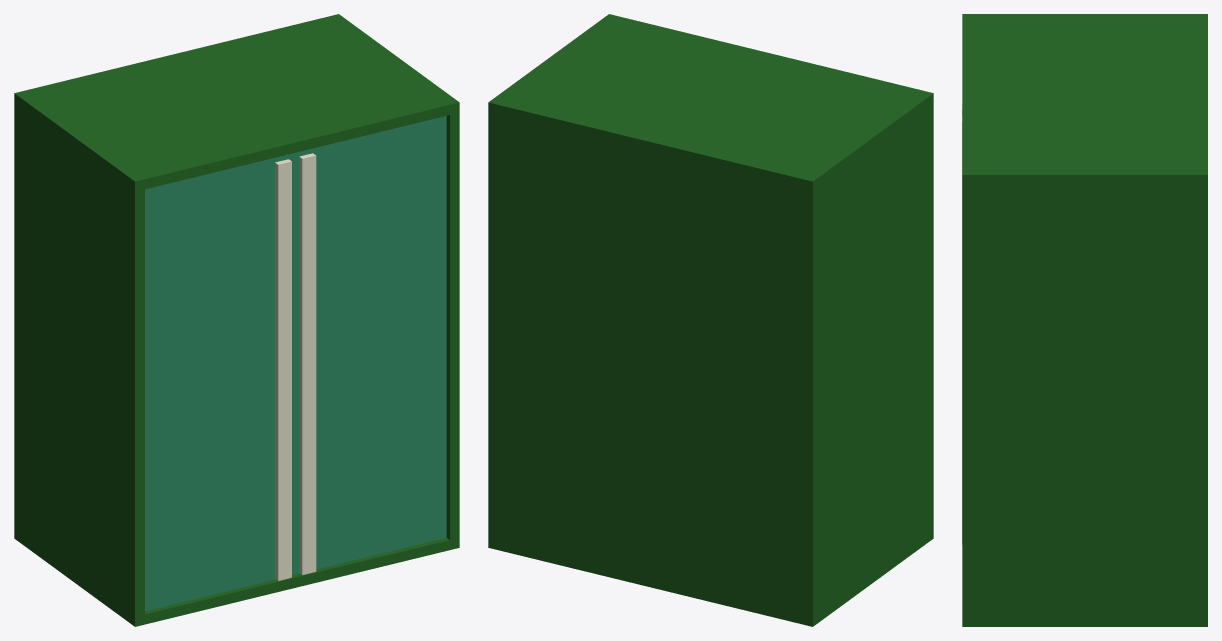
File: Cabinet.fbx
The picture shows the model from 3 angles, left to right: view 1: azimuth 30°, elevation 25°; view 2: azimuth 150°, elevation 25°; view 3: azimuth 270°, elevation 25°; orthographic projection.
Visible parts, largest first — view 1: polySurface54, polySurface51, polySurface48; view 2: polySurface54; view 3: polySurface54, polySurface51.
Boxes of the visible parts, box(x1,y1,x2,y2) form: polySurface54: box(14, 14, 459, 626); polySurface51: box(294, 116, 446, 574); polySurface48: box(145, 153, 294, 611); polySurface54: box(488, 14, 933, 626); polySurface54: box(962, 14, 1207, 626); polySurface51: box(962, 115, 962, 544).
Size of the model in its own units: 3.01 by 3.95 by 1.95.
